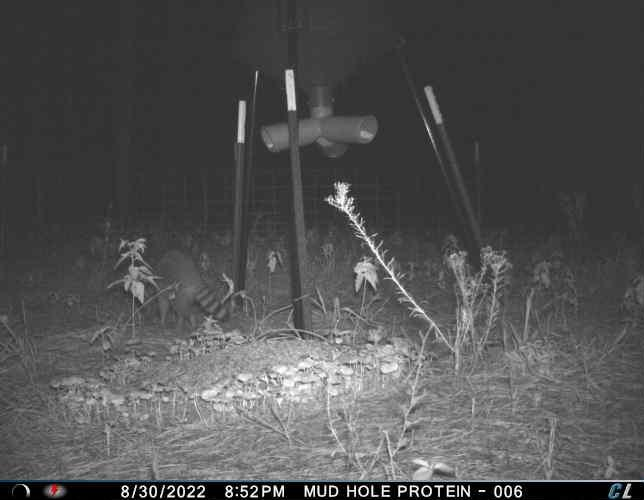Raccoon: (138, 247, 231, 337)
